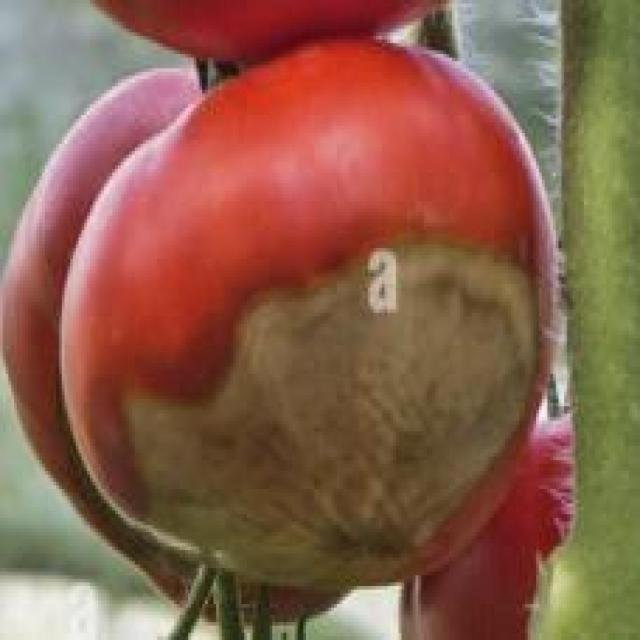Blossom End Rot Fruit: (77, 145, 355, 385)
